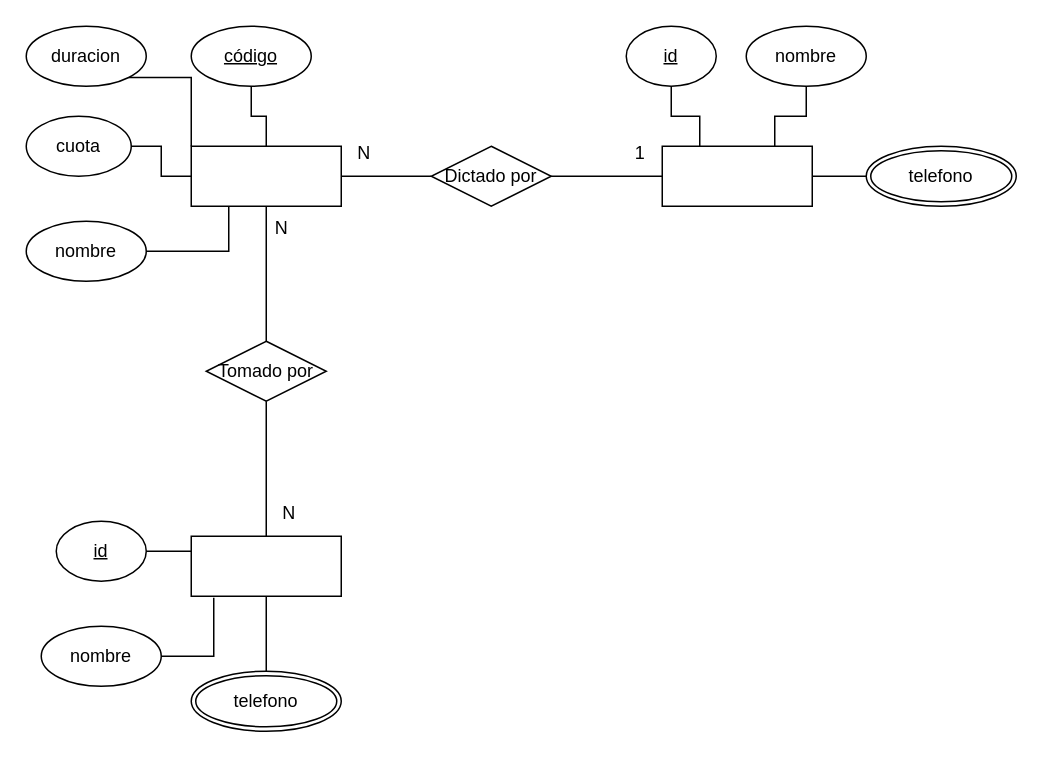
This 1043x758 diagram has some shape labels left out. The centre of each missing label's shape, as x and y in pixels:
ALUMNO: the point at 265,565
CURSO: the point at 265,175
INSTRUCTOR: the point at 736,175
